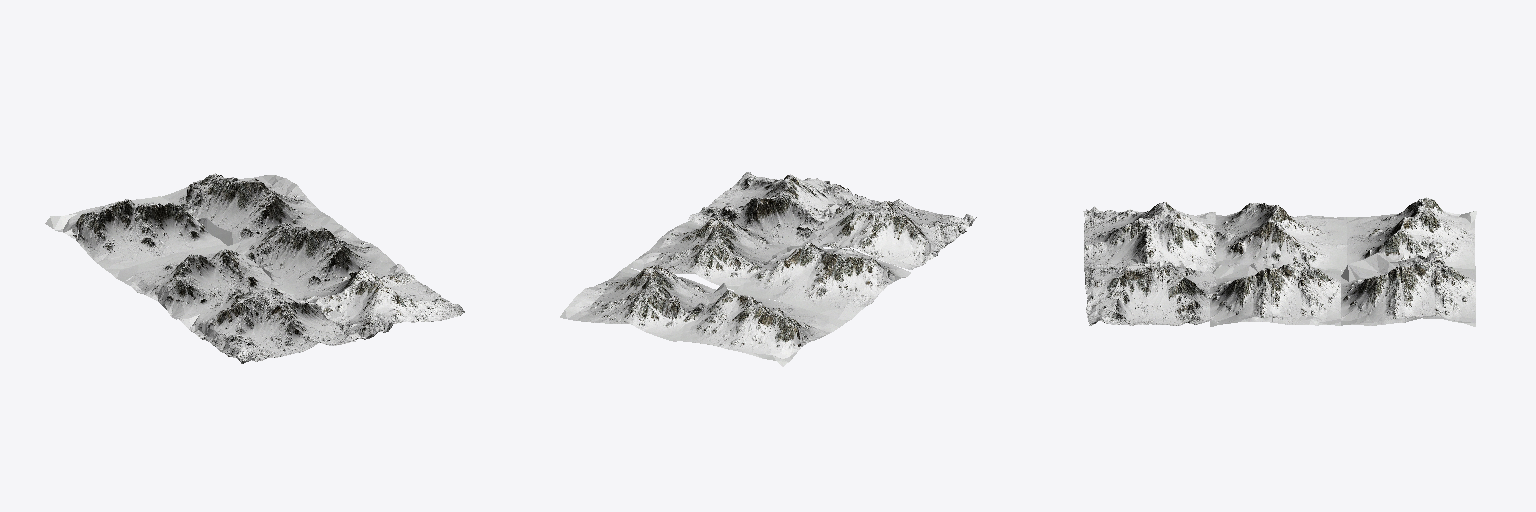
The picture shows the model from 3 angles: view 1: azimuth 30°, elevation 25°; view 2: azimuth 150°, elevation 25°; view 3: azimuth 270°, elevation 25°; orthographic projection.
Parts seen in each view (by area): view 1: Mesh_QuantumCold_E_003, Mesh_QuantumCold_C_002, Mesh_QuantumCold_B_005, Mesh_QuantumCold_B_006, Mesh_QuantumCold_A_002, Mesh_QuantumCold_D_002; view 2: Mesh_QuantumCold_A_002, Mesh_QuantumCold_B_005, Mesh_QuantumCold_E_003, Mesh_QuantumCold_D_002, Mesh_QuantumCold_C_002, Mesh_QuantumCold_B_006; view 3: Mesh_QuantumCold_B_005, Mesh_QuantumCold_B_006, Mesh_QuantumCold_E_003, Mesh_QuantumCold_D_002, Mesh_QuantumCold_A_002, Mesh_QuantumCold_C_002.
Part boxes in pixels (x1,y1,x2,y2): Mesh_QuantumCold_E_003: (177,288,355,363); Mesh_QuantumCold_C_002: (45,196,225,274); Mesh_QuantumCold_B_005: (162,173,336,245); Mesh_QuantumCold_B_006: (229,223,395,295); Mesh_QuantumCold_A_002: (113,245,284,319); Mesh_QuantumCold_D_002: (292,264,464,340); Mesh_QuantumCold_A_002: (734,243,910,322); Mesh_QuantumCold_B_005: (560,265,727,341); Mesh_QuantumCold_E_003: (802,197,976,269); Mesh_QuantumCold_D_002: (688,172,865,246); Mesh_QuantumCold_C_002: (669,290,846,366); Mesh_QuantumCold_B_006: (627,217,800,290); Mesh_QuantumCold_B_005: (1341,252,1475,326); Mesh_QuantumCold_B_006: (1210,261,1340,326); Mesh_QuantumCold_E_003: (1083,202,1215,271); Mesh_QuantumCold_D_002: (1085,260,1218,325); Mesh_QuantumCold_A_002: (1216,203,1346,269); Mesh_QuantumCold_C_002: (1344,197,1476,269).
Bounding box in the file's own units: 200 × 32.69 × 301.
Materials: 6 (5 with a texture image).